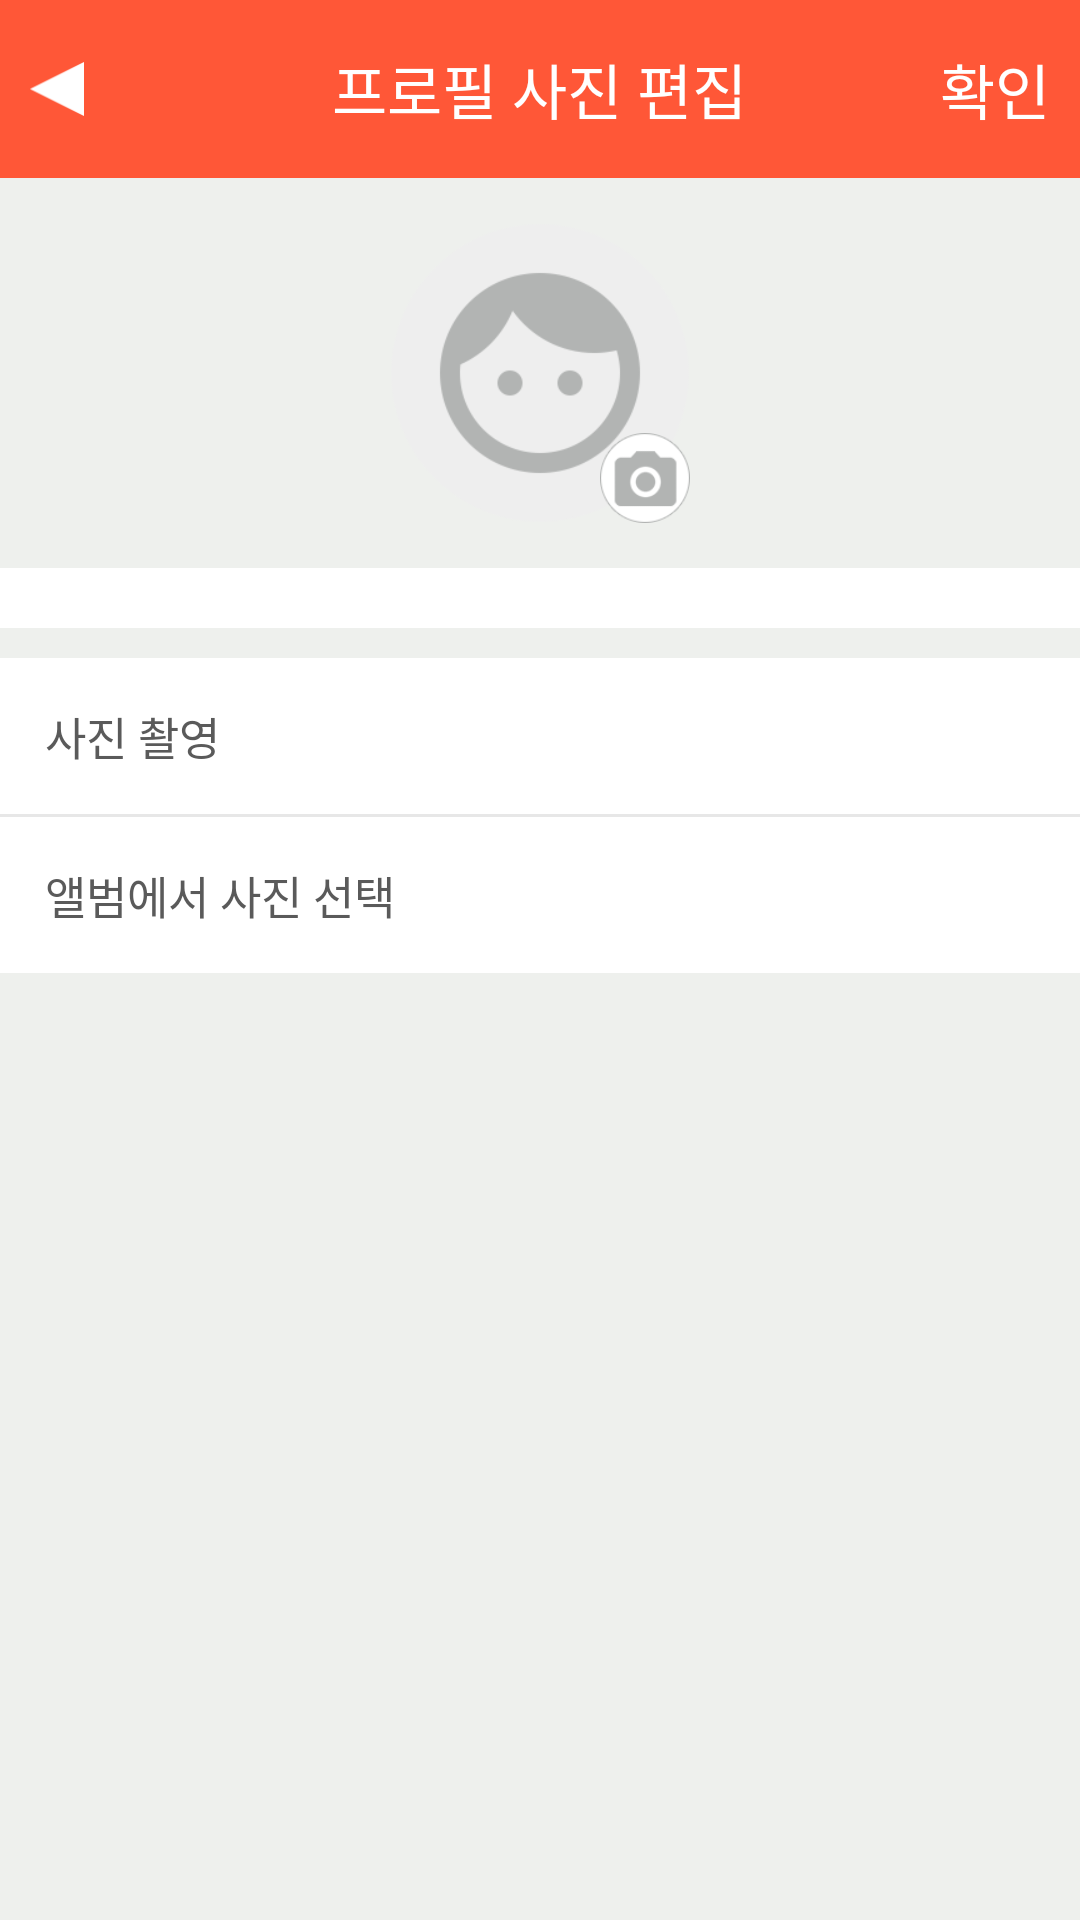

Named icons in this screenshot (1080px x 1920px) and their bounding boxes, BBox(x1, y1, x2, y2):
arrow: BBox(30, 62, 84, 116)
